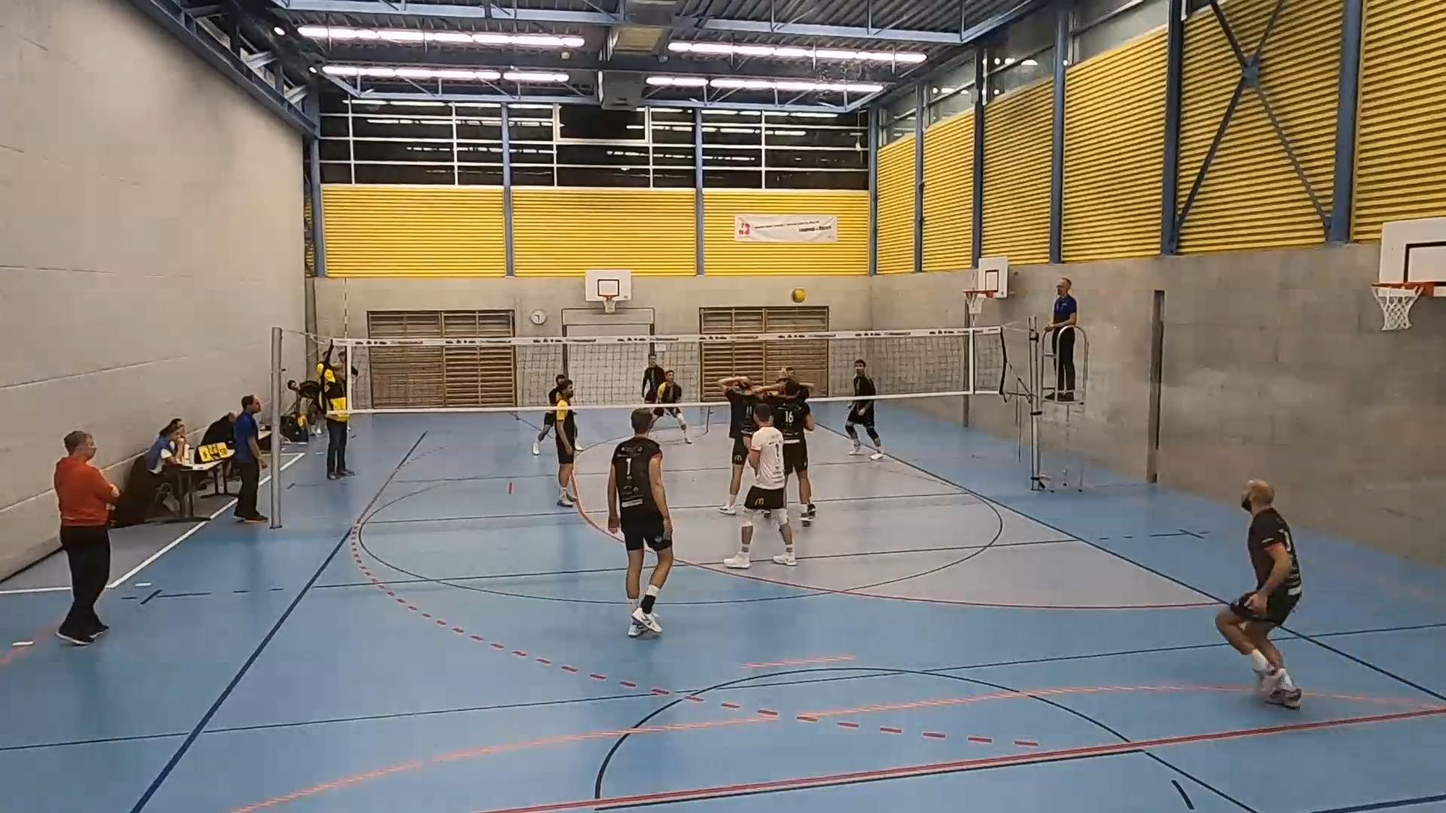Player: (1216, 480, 1301, 708), (607, 409, 673, 636), (724, 403, 796, 568), (767, 378, 816, 526), (718, 376, 756, 514), (845, 358, 883, 460), (554, 379, 576, 507), (532, 373, 566, 455), (780, 366, 816, 431), (652, 406, 691, 443), (643, 353, 664, 403)
